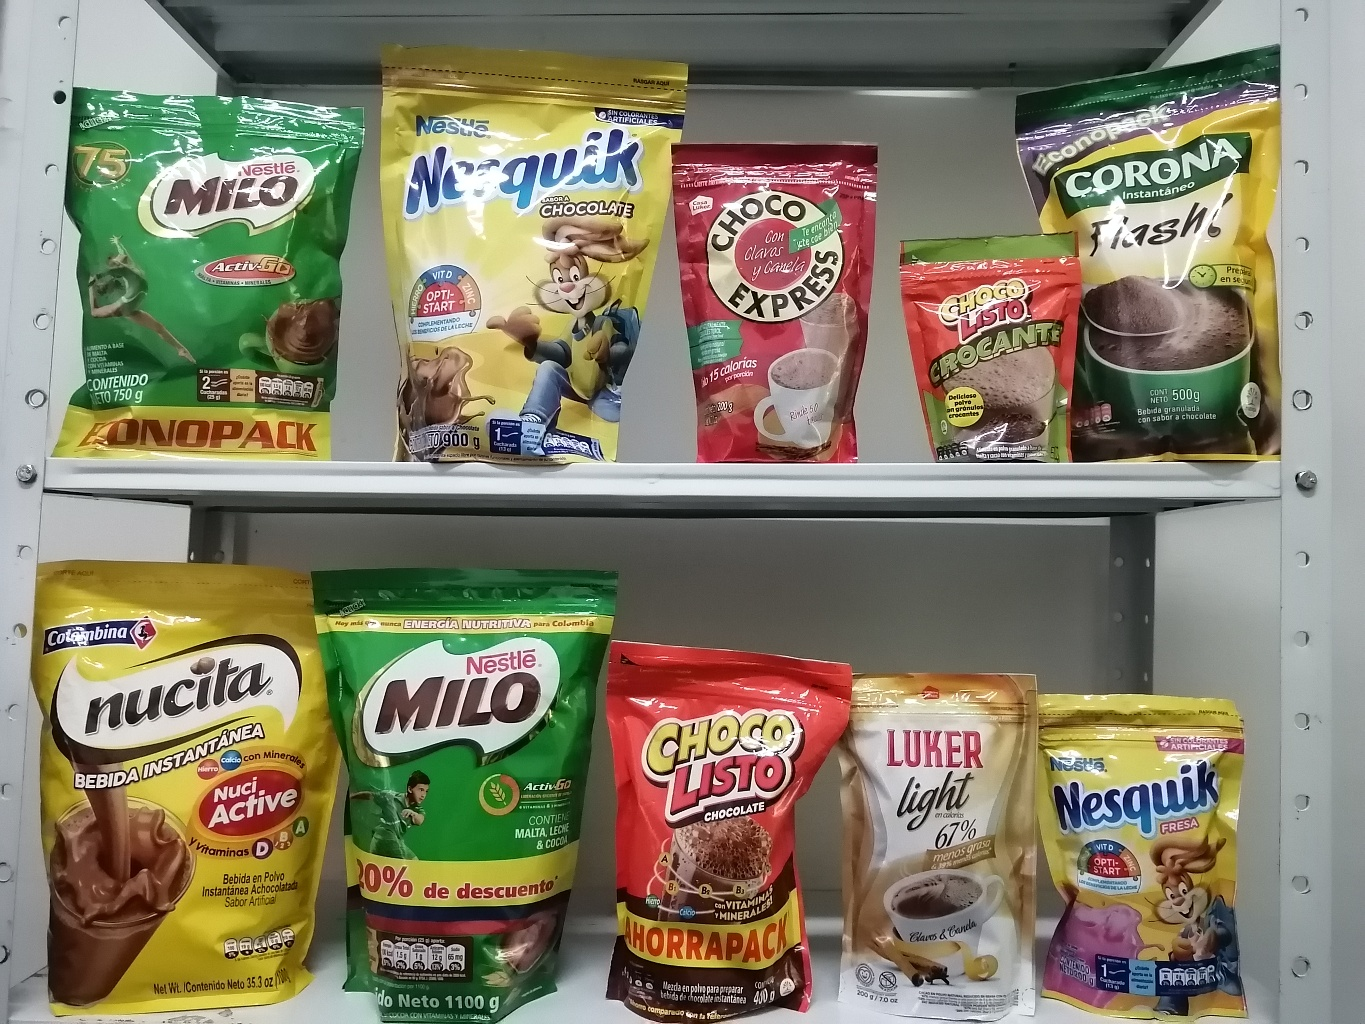COL0170102DYP10000: (897, 224, 1072, 463)
COL0170103DYP40000: (599, 632, 844, 1015)
COL0170305DYP20000: (1033, 681, 1251, 1016)
